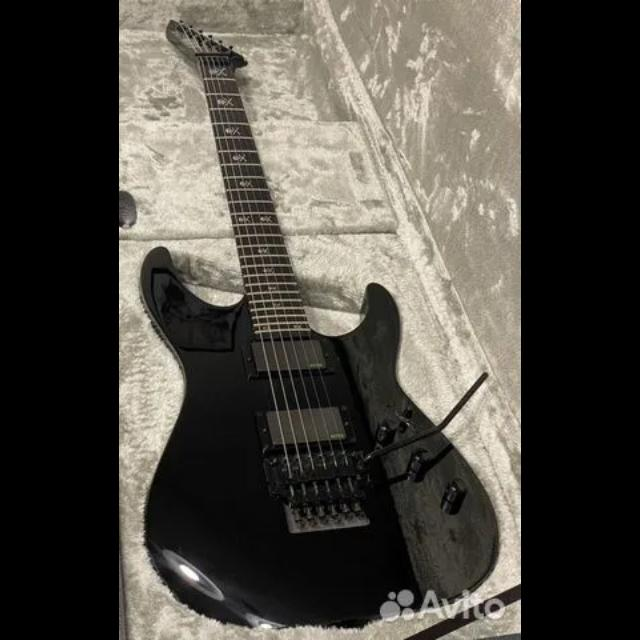Electric-Guitar: (140, 21, 500, 628)
